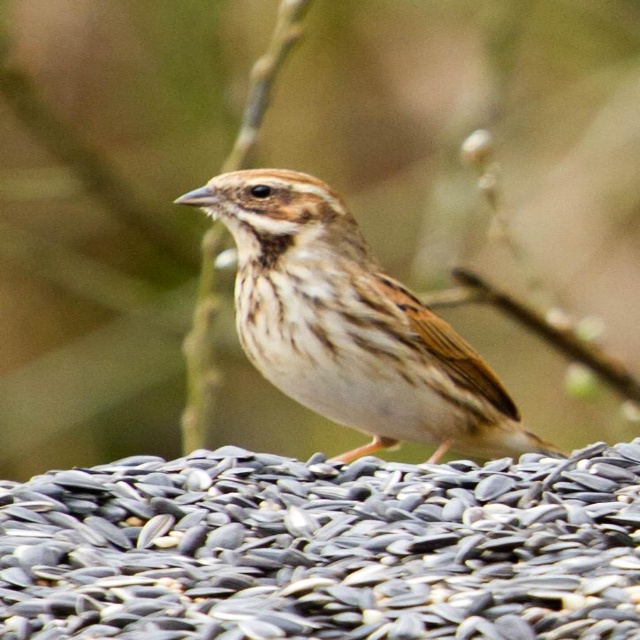Sparrow: (173, 167, 570, 465)
